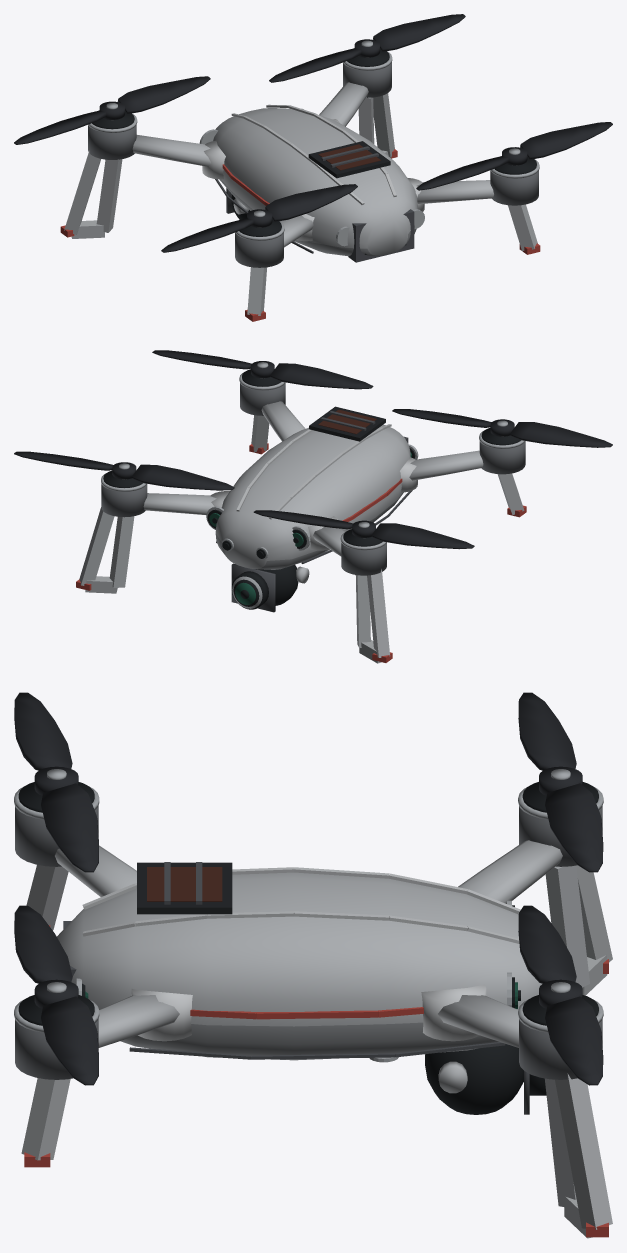
File: drone_mini3pro.glb
3 views of the same model, one above another, from view 1: azimuth 30°, elevation 25°; view 2: azimuth 150°, elevation 25°; view 3: azimuth 270°, elevation 25° (orthographic). The views are drawn at different scales.
Parts seen in each view (by area): view 1: Body_Shell, Rotor_RL, Rotor_FR, Rotor_RR, Rotor_FL, Leg_FL, Arm_FL, Body_Details, Motor_RL, Motor_RR, Motor_FL, Body_Vent (+7 smaller); view 2: Body_Shell, Leg_FR, Rotor_FR, Rotor_RR, Rotor_RL, Rotor_FL, Leg_FL, Gimbal_Camera, Arm_RL, Motor_FL, Motor_RL, Motor_FR (+10 smaller); view 3: Body_Shell, Rotor_RR, Rotor_RL, Rotor_FL, Rotor_FR, Leg_FR, Body_Details, Gimbal_Camera, Leg_FL, Body_Vent, Arm_FR, Arm_RR (+9 smaller).
Part boxes in pixels (left/top/right/bottom): Body_Shell: left=213, top=108, right=417, bottom=256; Rotor_RL: left=161, top=184, right=357, bottom=252; Rotor_FR: left=269, top=14, right=465, bottom=82; Rotor_RR: left=416, top=122, right=612, bottom=190; Rotor_FL: left=14, top=76, right=210, bottom=144; Leg_FL: left=60, top=150, right=122, bottom=238; Arm_FL: left=132, top=135, right=225, bottom=179; Body_Details: left=215, top=104, right=414, bottom=262; Motor_RL: left=235, top=218, right=284, bottom=267; Motor_RR: left=490, top=156, right=539, bottom=205; Motor_FL: left=88, top=110, right=137, bottom=159; Body_Vent: left=308, top=141, right=390, bottom=178; Body_Shell: left=215, top=424, right=410, bottom=569; Leg_FR: left=76, top=507, right=134, bottom=593; Rotor_FR: left=14, top=451, right=234, bottom=490; Rotor_RR: left=152, top=350, right=373, bottom=389; Rotor_RL: left=392, top=409, right=612, bottom=447; Rotor_FL: left=253, top=510, right=474, bottom=549; Leg_FL: left=355, top=569, right=392, bottom=663; Gimbal_Camera: left=231, top=563, right=309, bottom=612; Arm_RL: left=400, top=450, right=483, bottom=492; Motor_FL: left=340, top=529, right=386, bottom=575; Motor_RL: left=479, top=427, right=525, bottom=474; Motor_FR: left=101, top=470, right=147, bottom=517; Body_Shell: left=57, top=872, right=542, bottom=1060; Rotor_RR: left=14, top=905, right=98, bottom=1085; Rotor_RL: left=14, top=692, right=98, bottom=872; Rotor_FL: left=518, top=692, right=603, bottom=872; Rotor_FR: left=518, top=905, right=603, bottom=1085; Leg_FR: left=544, top=1073, right=612, bottom=1238; Body_Details: left=63, top=867, right=520, bottom=1059; Gimbal_Camera: left=425, top=1044, right=546, bottom=1114; Leg_FL: left=545, top=865, right=612, bottom=995; Body_Vent: left=137, top=862, right=232, bottom=914; Arm_FR: left=421, top=984, right=518, bottom=1047; Arm_RR: left=98, top=989, right=192, bottom=1047.
Size of the model in its own units: 0.3207 by 0.0881 by 0.2075.
